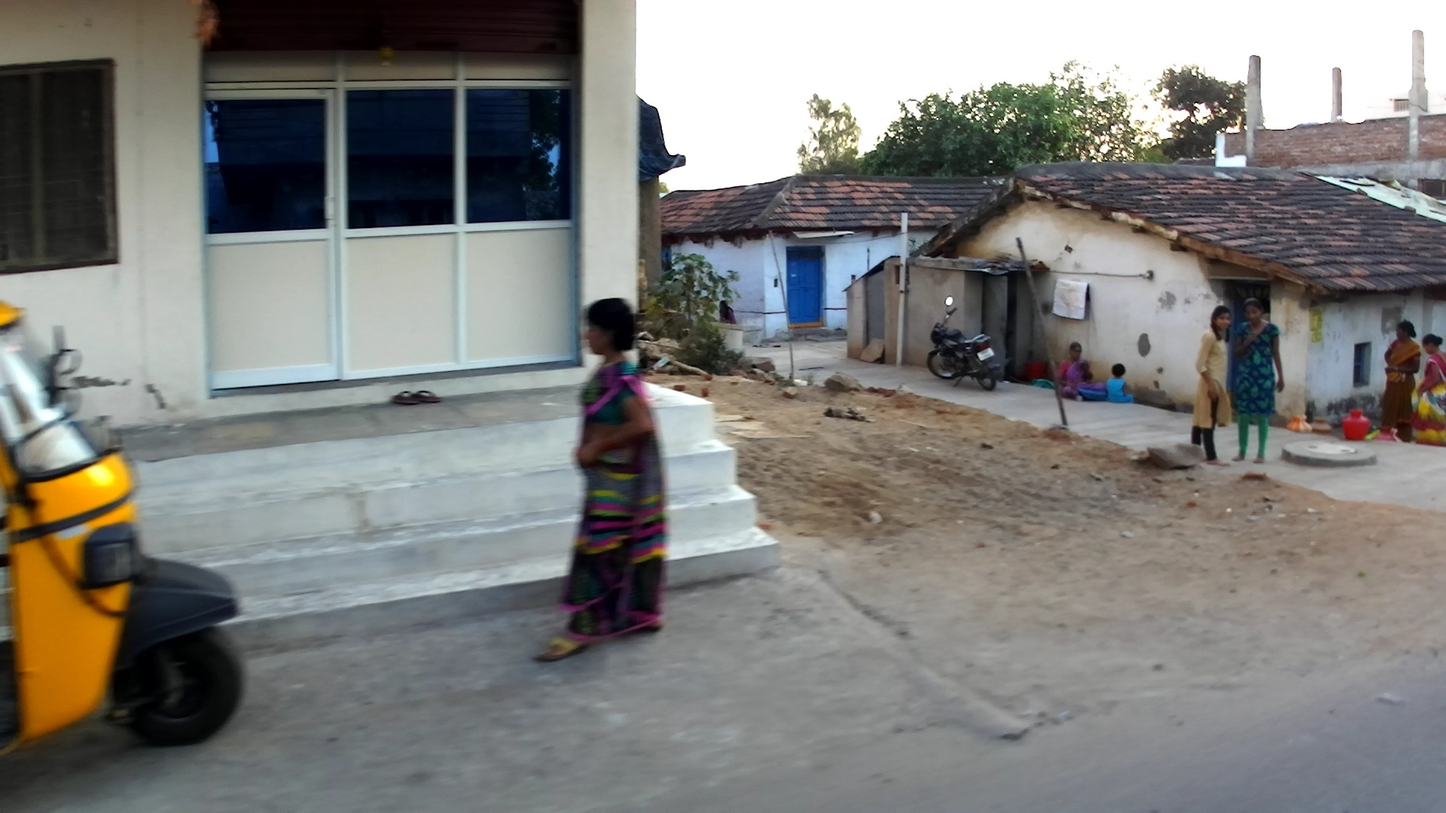autorickshaw: (1, 301, 245, 757)
motorcycle: (926, 295, 1002, 393)
person: (532, 296, 671, 663), (1232, 296, 1284, 464), (1191, 304, 1234, 468), (1378, 321, 1423, 444), (1411, 333, 1446, 446), (1057, 342, 1107, 401), (1105, 362, 1134, 403), (719, 300, 738, 324)
